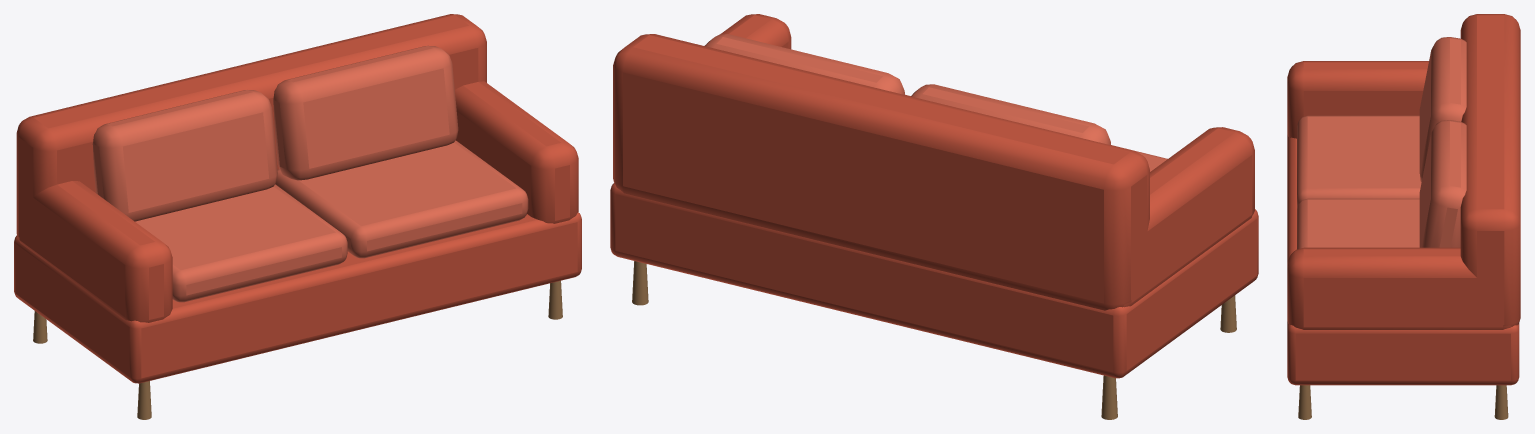
The model's file is sofa.fbx.
3 views of the same model, side by side, from view 1: azimuth 30°, elevation 25°; view 2: azimuth 150°, elevation 25°; view 3: azimuth 270°, elevation 25° (orthographic). The views are drawn at different scales.
Visible parts, largest first — view 1: Sofa; view 2: Sofa; view 3: Sofa.
Part boxes in pixels (bbox=[...]): Sofa: bbox=[14, 14, 581, 419]; Sofa: bbox=[610, 14, 1258, 419]; Sofa: bbox=[1287, 14, 1520, 419].
Size of the model in its own units: 1.8 by 0.8507 by 0.855.
